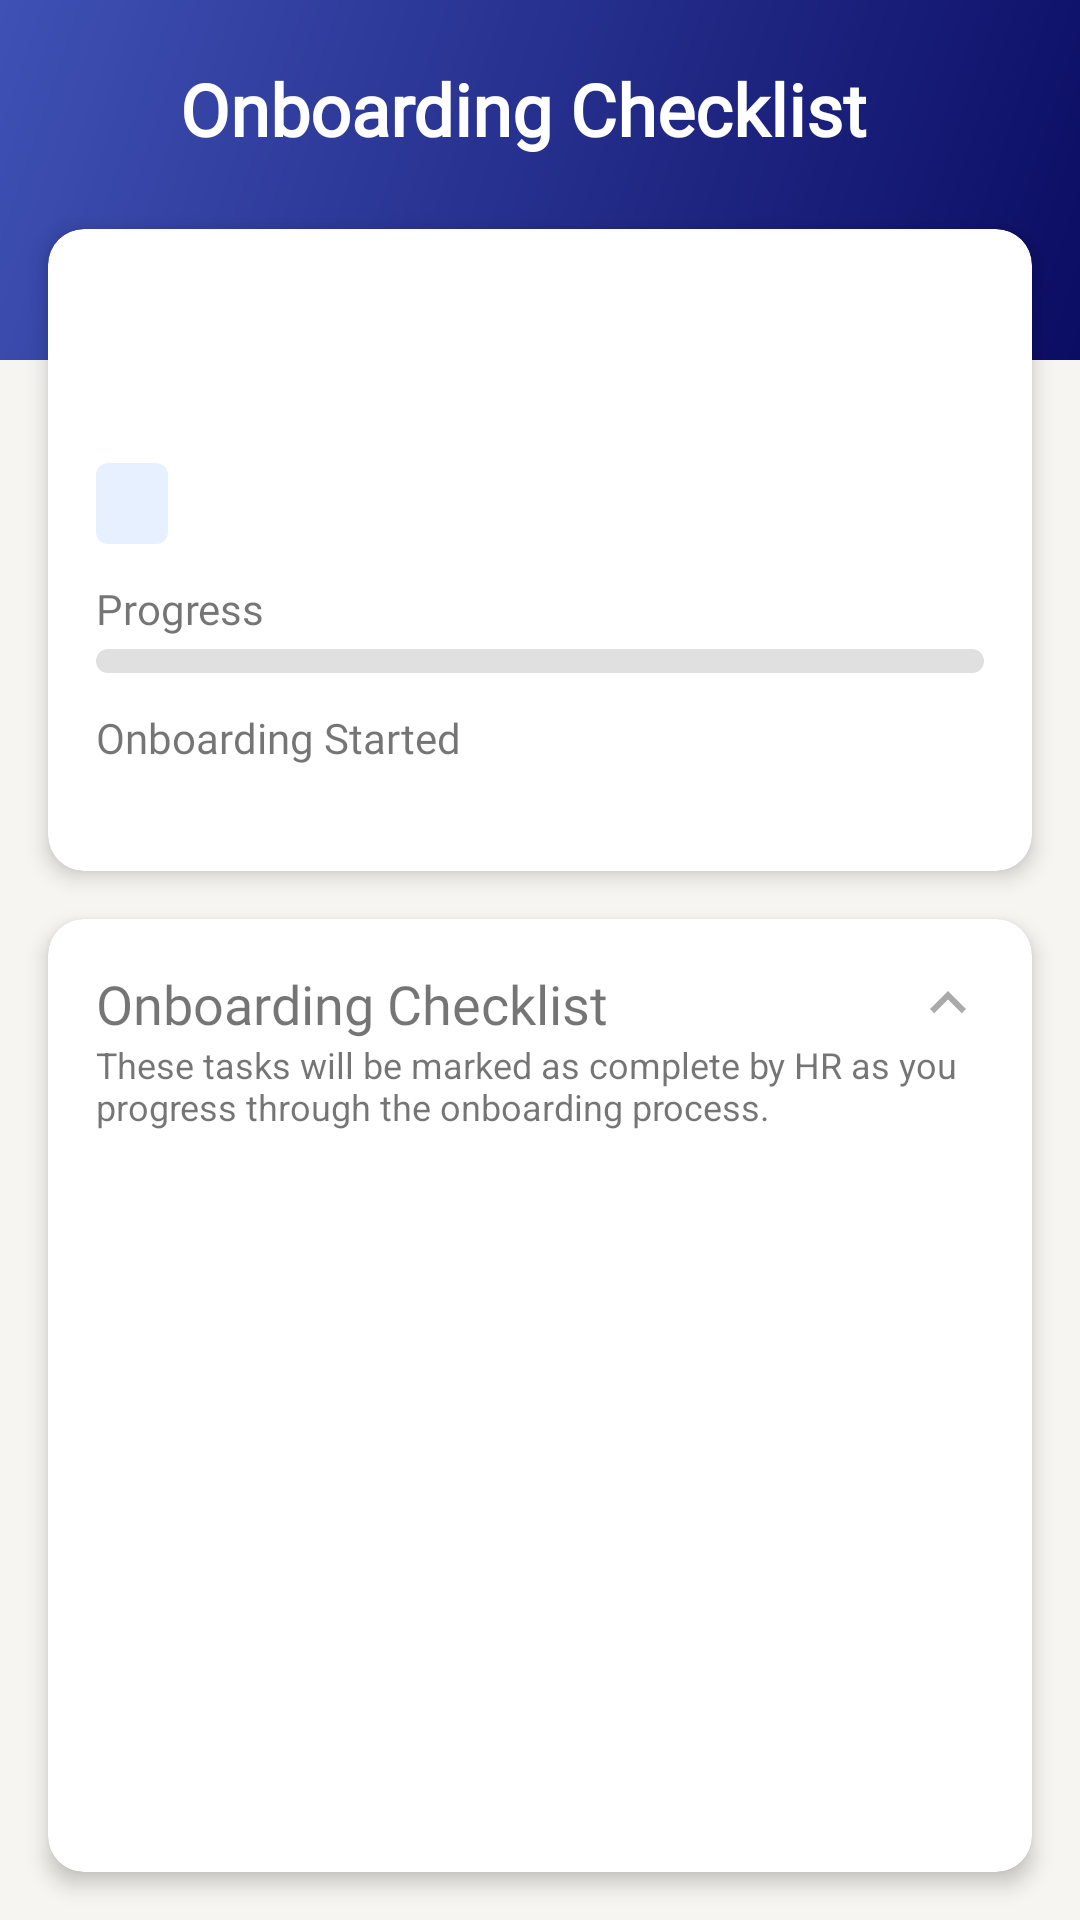

Icons on this 1080px x 1920px Android screen, each with the point to tap as point (x, y):
Collapse: point (948, 1002)
